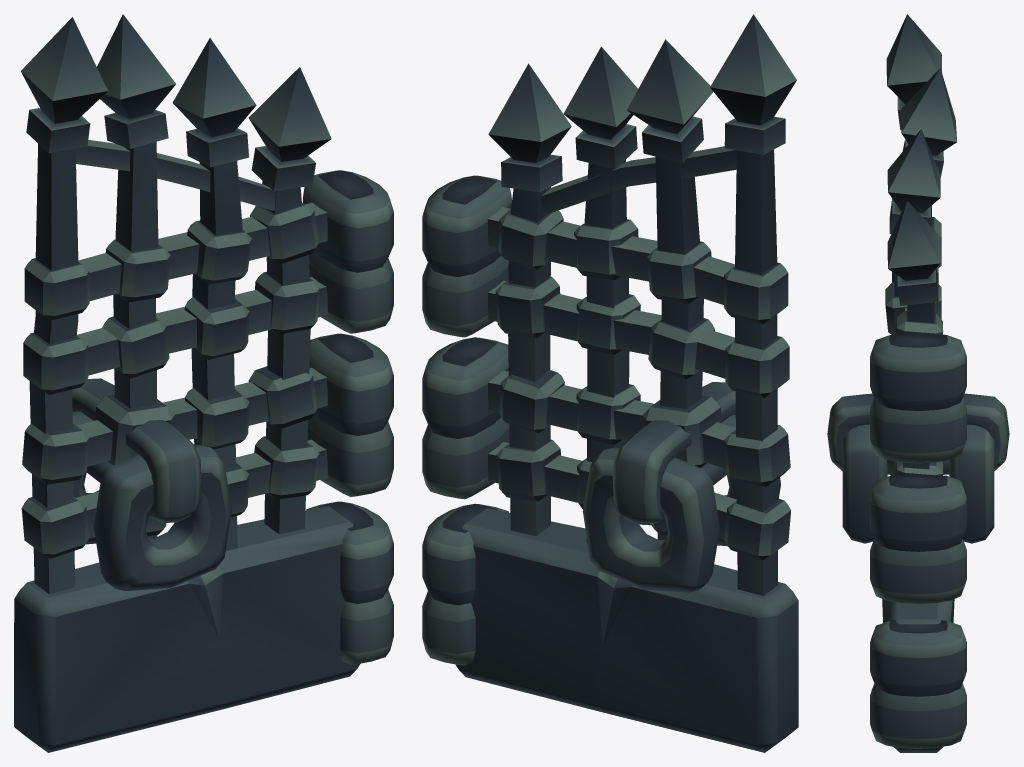
The model's file is door_large_right_gate.fbx.
3 views of the same model, side by side, from view 1: azimuth 30°, elevation 25°; view 2: azimuth 150°, elevation 25°; view 3: azimuth 270°, elevation 25° (orthographic). The views are drawn at different scales.
Visible parts, largest first — view 1: door_large_right_gate, door_large_right_handle; view 2: door_large_right_gate, door_large_right_handle; view 3: door_large_right_gate, door_large_right_handle.
Boxes of the visible parts, box(x1,y1,x2,y2) form: door_large_right_gate: box(14, 14, 393, 752); door_large_right_handle: box(72, 378, 231, 591); door_large_right_gate: box(422, 14, 798, 752); door_large_right_handle: box(583, 382, 780, 592); door_large_right_gate: box(870, 14, 966, 752); door_large_right_handle: box(827, 393, 1009, 543).
Bounding box in the file's own units: 167 × 324 × 85.54.
